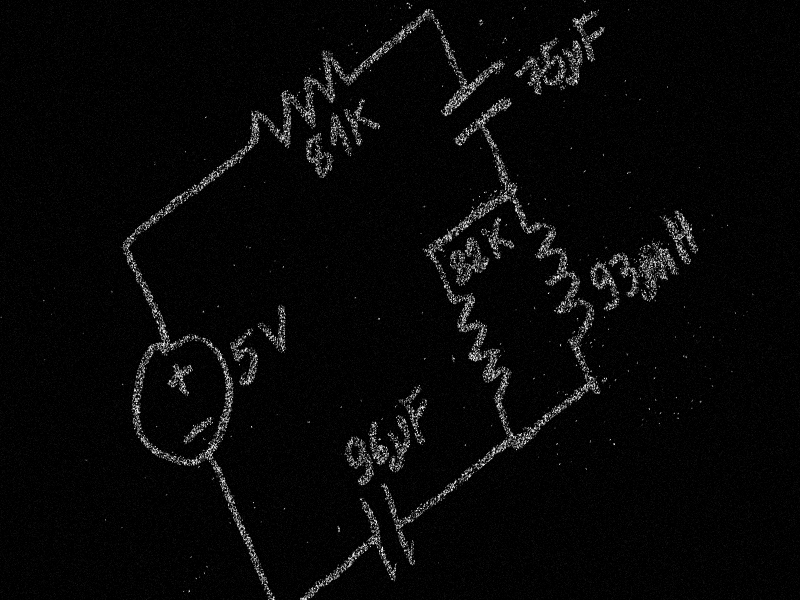1: (319, 107, 359, 168)
2: (460, 229, 493, 277)
3: (606, 245, 645, 303)
5: (221, 322, 272, 392), (533, 28, 575, 91)
6: (359, 417, 394, 470)
7: (511, 48, 556, 109)
8: (298, 126, 339, 185), (443, 243, 477, 291)
9: (336, 429, 380, 492), (583, 255, 625, 317)
F: (396, 381, 442, 448), (570, 1, 615, 66)
H: (658, 199, 704, 270)
V: (253, 299, 303, 364)
k: (340, 88, 386, 152), (479, 212, 517, 265)
m: (635, 239, 682, 299)
u: (380, 412, 422, 470), (561, 38, 591, 83)
